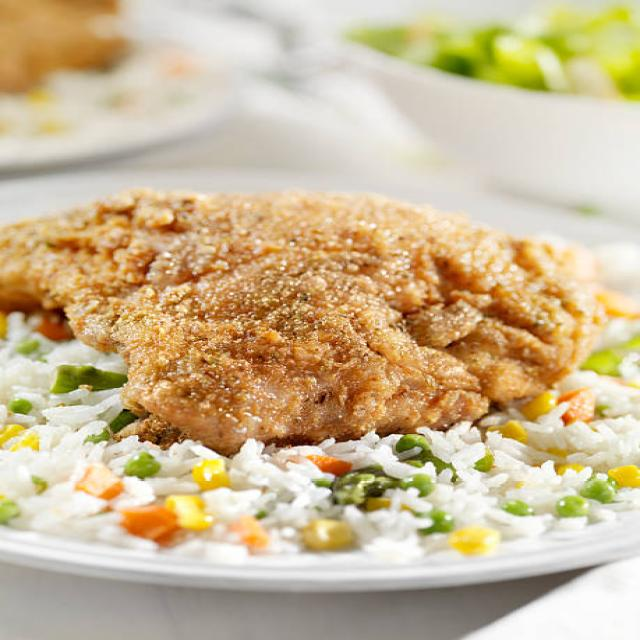Frango: (0, 186, 619, 458)
